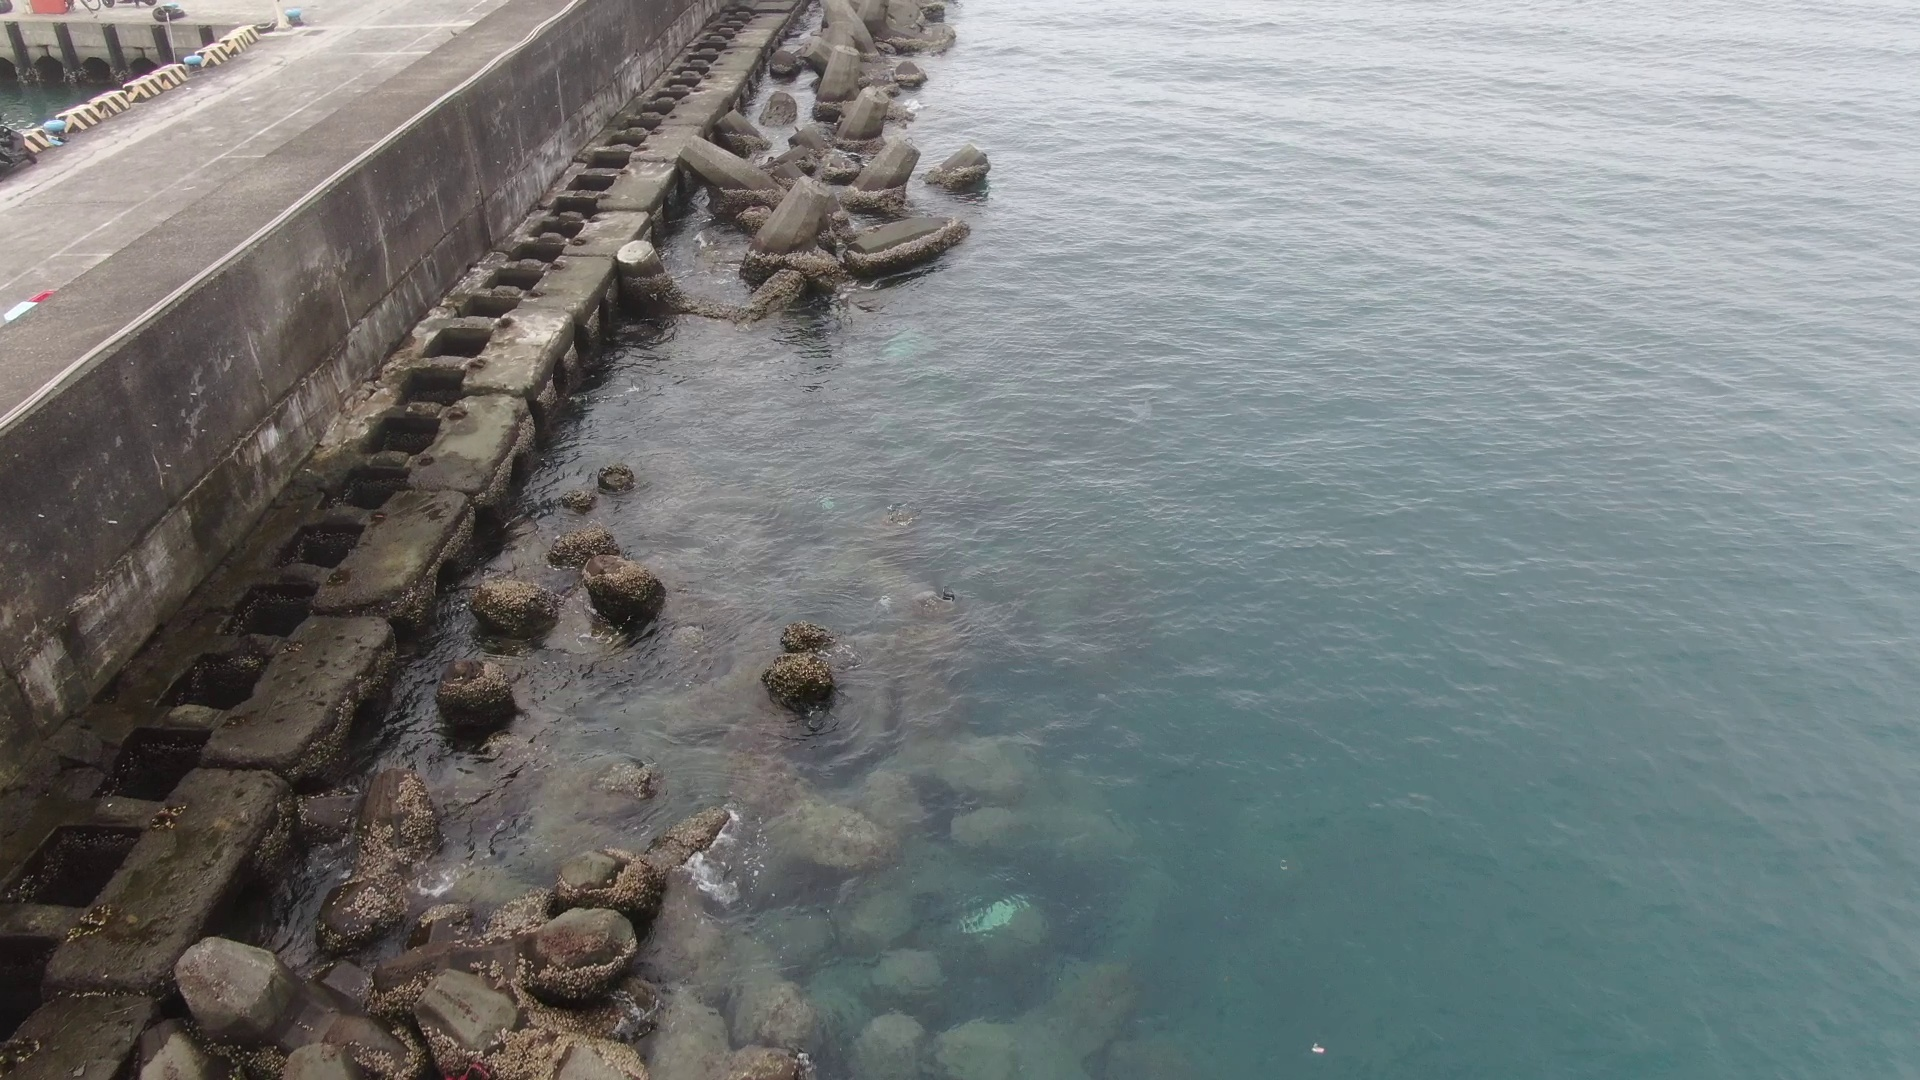garbage: (1305, 1035, 1328, 1056)
